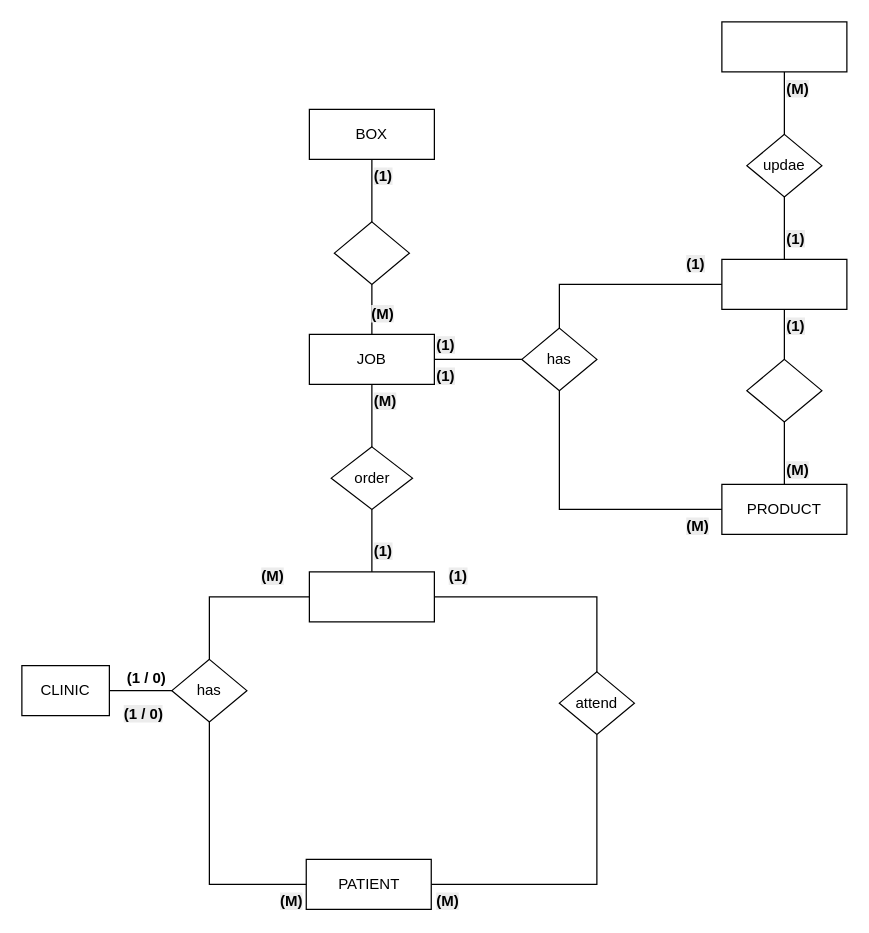
The diagram is 869 pixels wide and 933 high, and some of its shapes have lost their labels. The centre of each missing label's shape, as x and y in pixels:
"detail" belongs at [784,390].
"DOCTOR" belongs at [371,596].
"INVOICE" belongs at [784,283].
"PAYMENT" belongs at [784,46].
"saved" belongs at [371,252].
